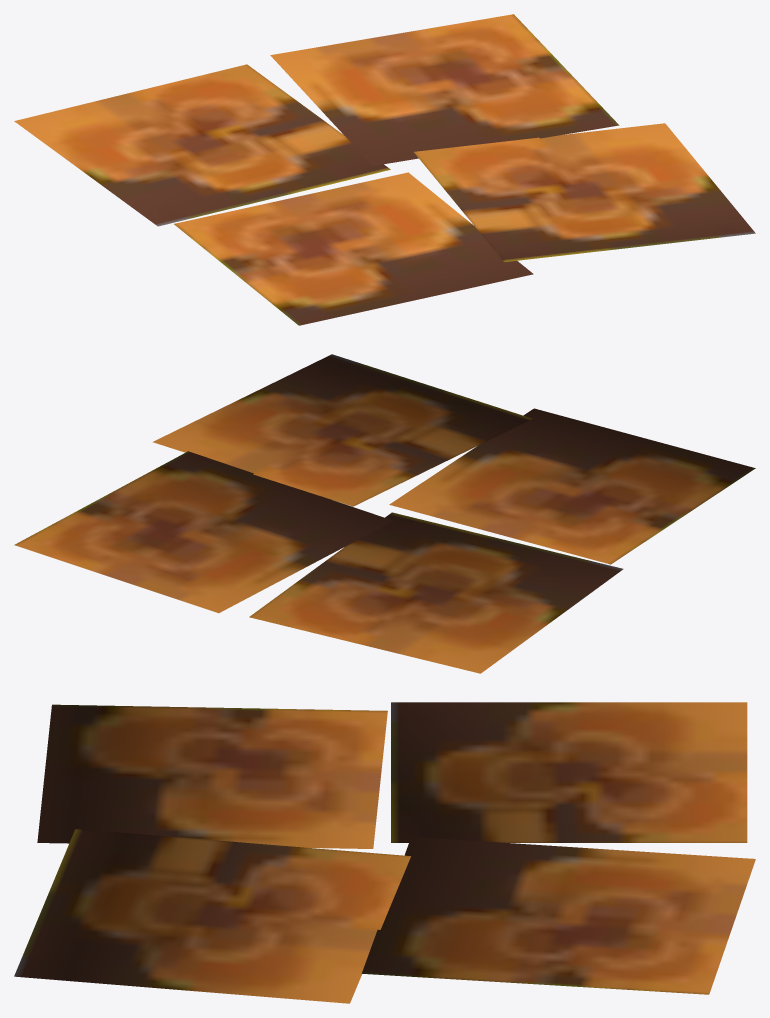
Rendered from fg_grassE.dae.
3 renders of one model, top to bottom at view 1: azimuth 30°, elevation 25°; view 2: azimuth 150°, elevation 25°; view 3: azimuth 270°, elevation 25°, orthographic. The views are drawn at different scales.
Parts seen in each view (by area): view 1: fg_grassE; view 2: fg_grassE; view 3: fg_grassE.
Part boxes in pixels (left/top/right/bottom): fg_grassE: left=14, top=14, right=755, bottom=325; fg_grassE: left=14, top=354, right=755, bottom=673; fg_grassE: left=14, top=702, right=755, bottom=1003.
Size of the model in its own units: 23.5 by 0.3916 by 24.87.
Materials: 1 (1 with a texture image).
